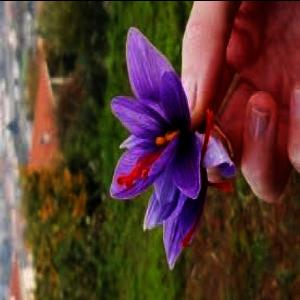Saffron: (109, 27, 198, 200)
